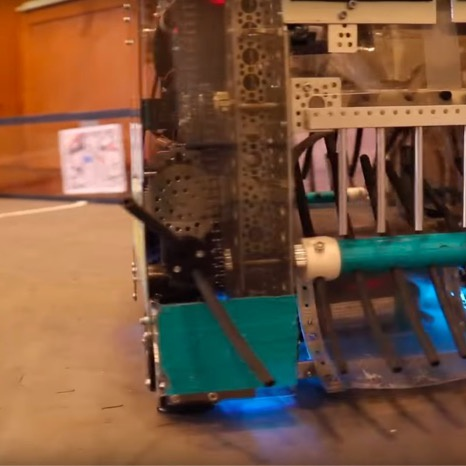robot: (120, 1, 466, 420)
